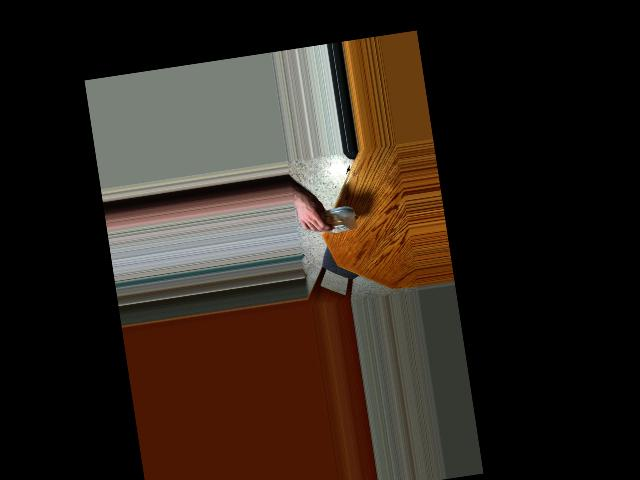cheese: (311, 195, 362, 242)
